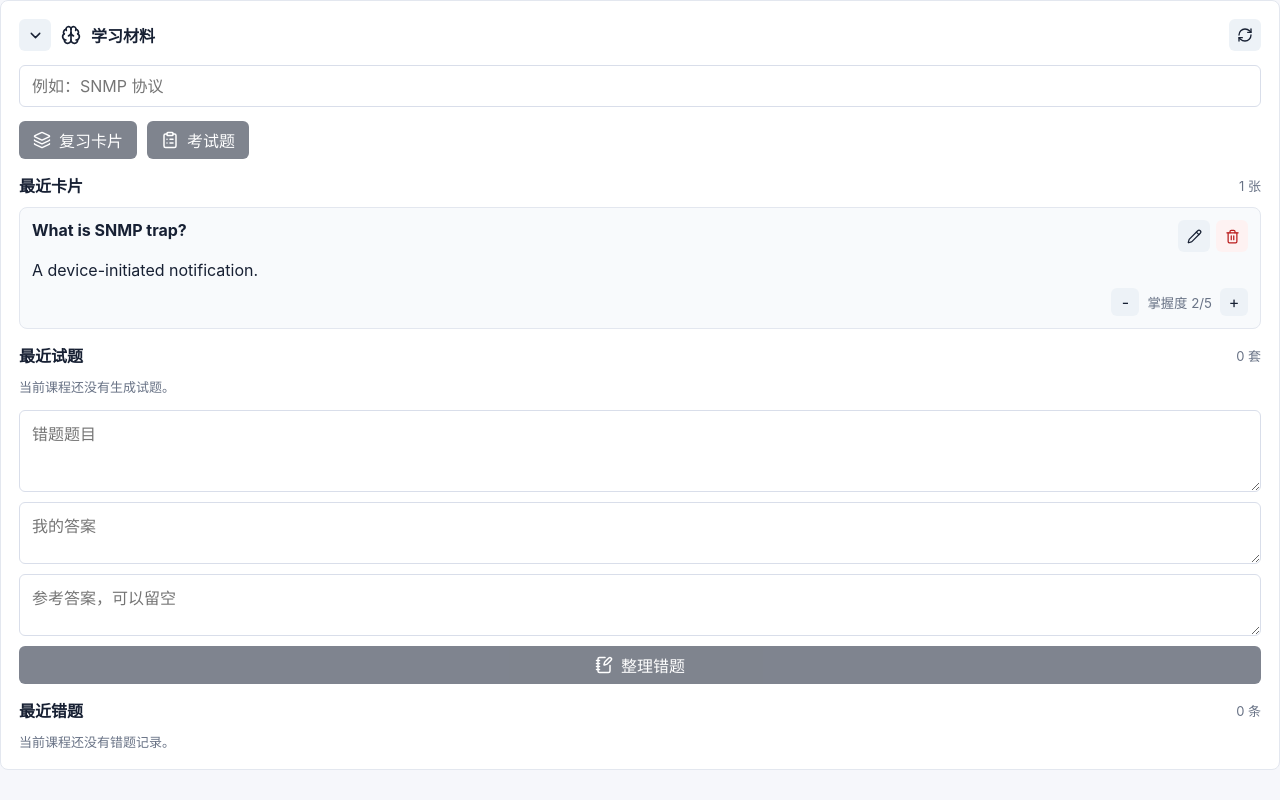
StudyToolsPanel › edits a study card front and back in place
Click the button titled "编辑卡片" at [1194, 236], box left=1178, top=220, right=1210, bottom=252
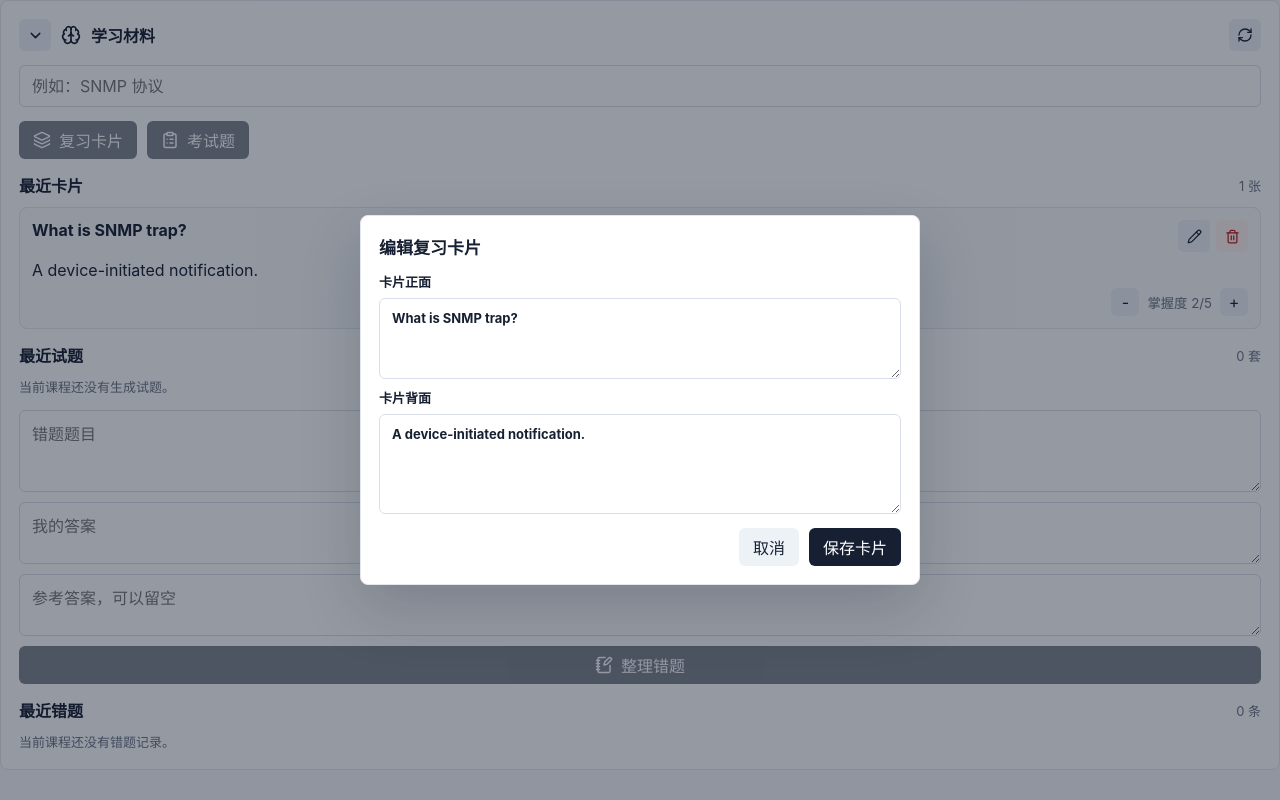
Replace the text in the text box with test id "card-front-input" with "What is an SNMP trap?" at [640, 339], box left=379, top=298, right=901, bottom=379
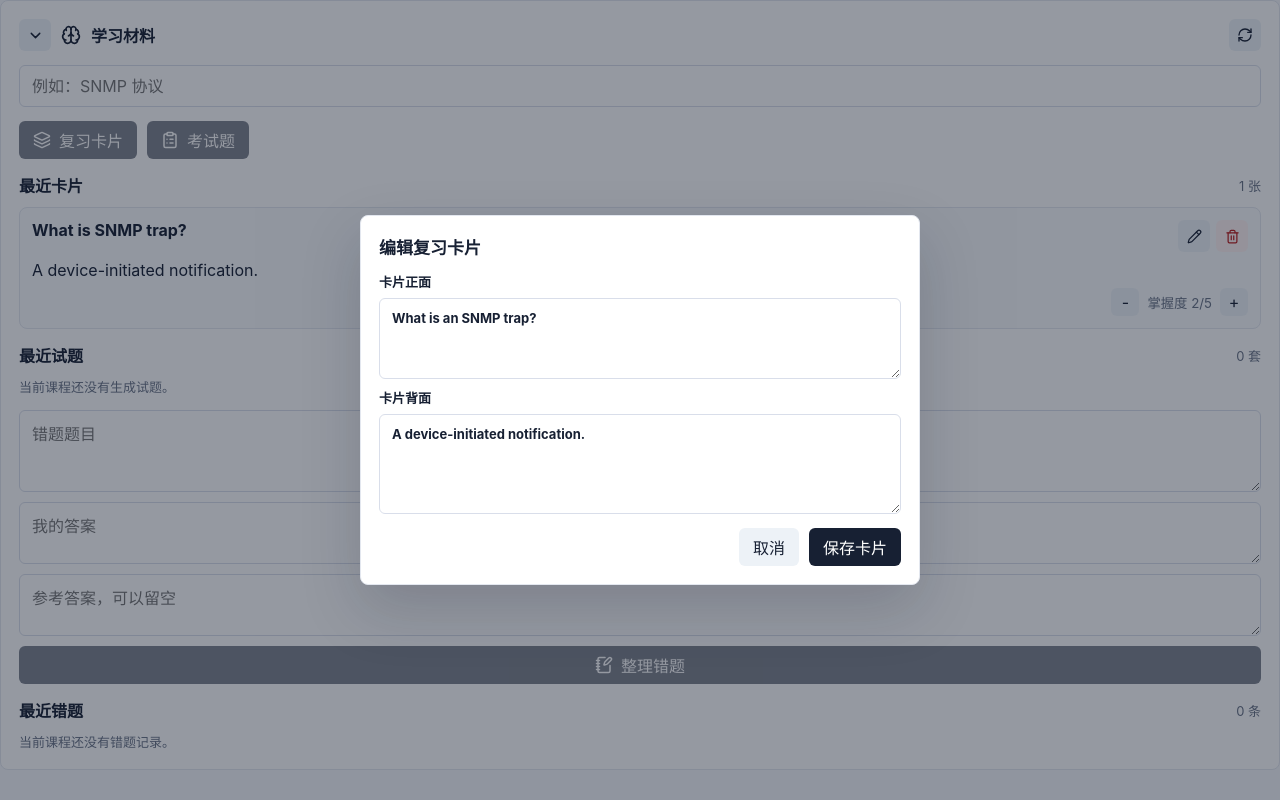
Replace the text in the text box with test id "card-back-input" with "An event notification sent by a device." at [640, 464], box left=379, top=414, right=901, bottom=514
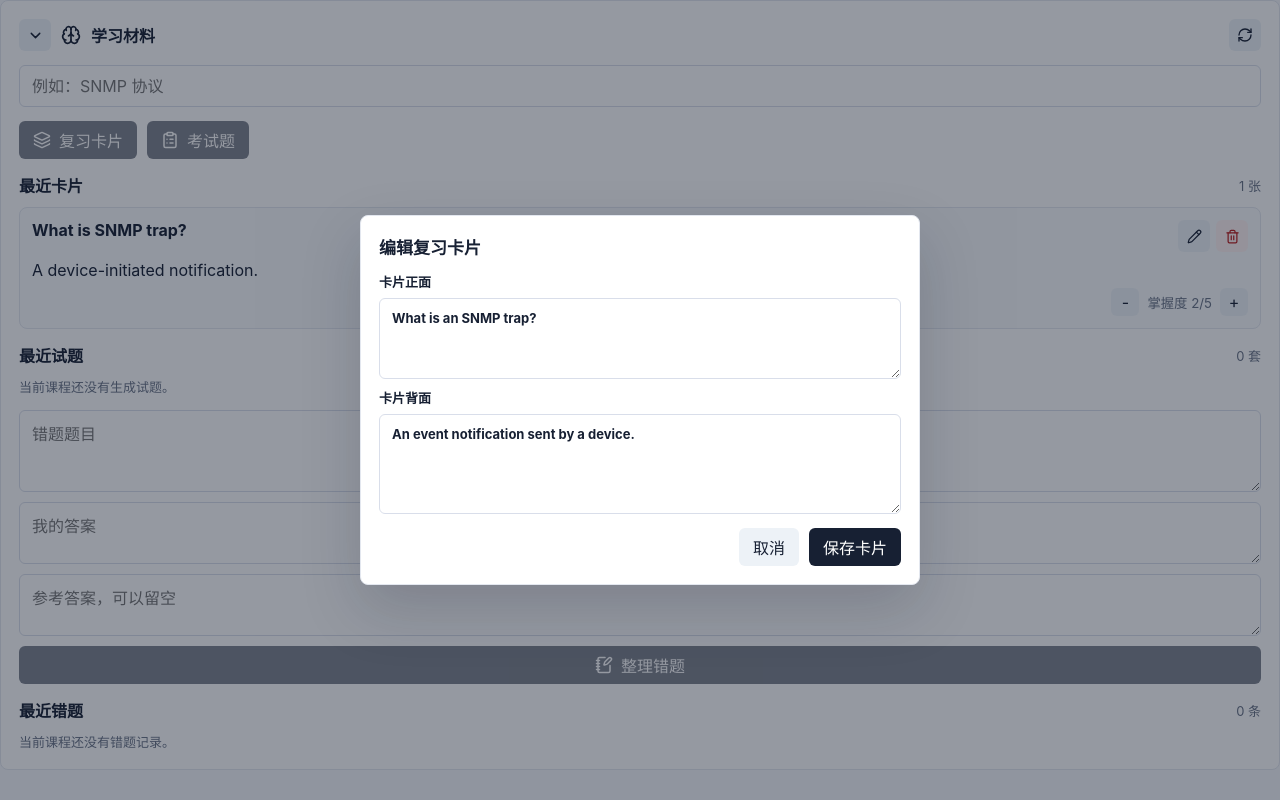
Click the button with test id "modal-confirm" at [855, 547], box left=809, top=528, right=901, bottom=566
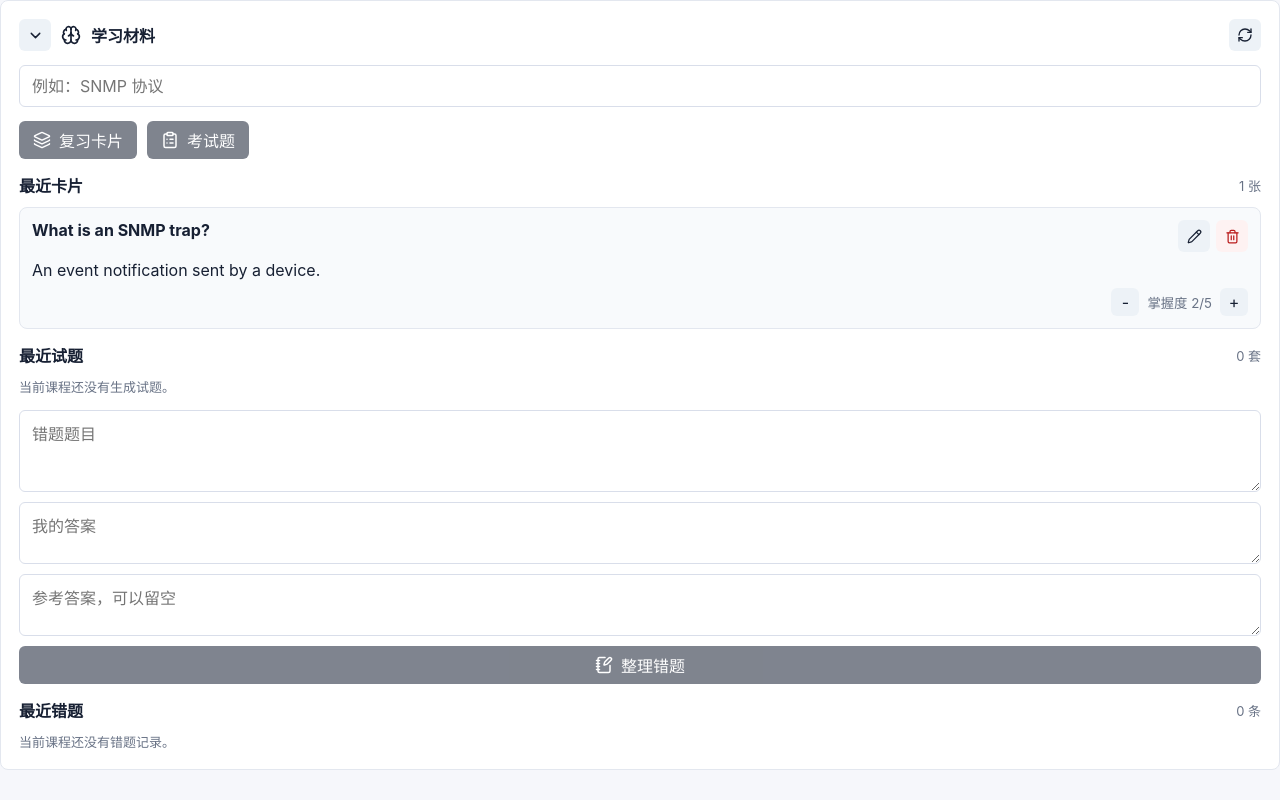
Expected: the text "What is an SNMP trap?" is shown, left=32, top=220, right=210, bottom=240
Expected: the text "An event notification sent by a device." is shown, left=32, top=260, right=320, bottom=280
